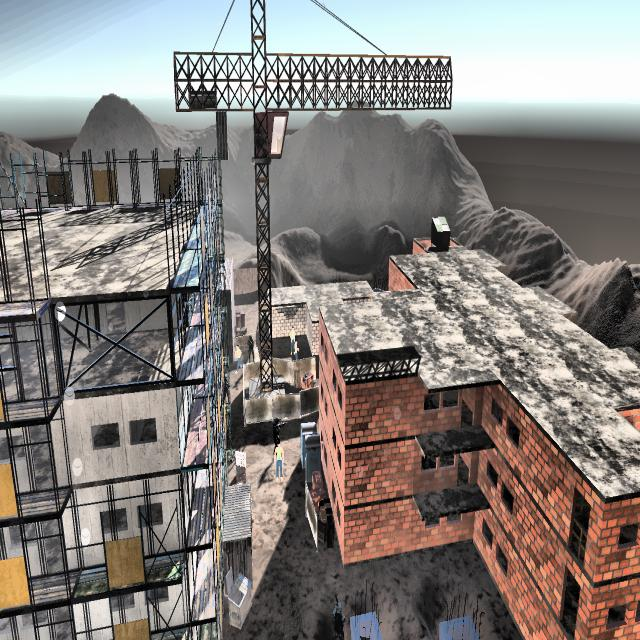bad: (327, 589, 347, 640), (271, 408, 282, 442), (247, 331, 256, 362)
good: (274, 439, 286, 484), (233, 336, 243, 374), (292, 334, 300, 366), (288, 322, 296, 350)
